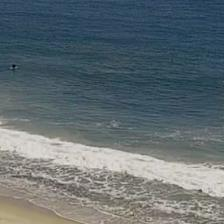surfer: (12, 64, 16, 68)
